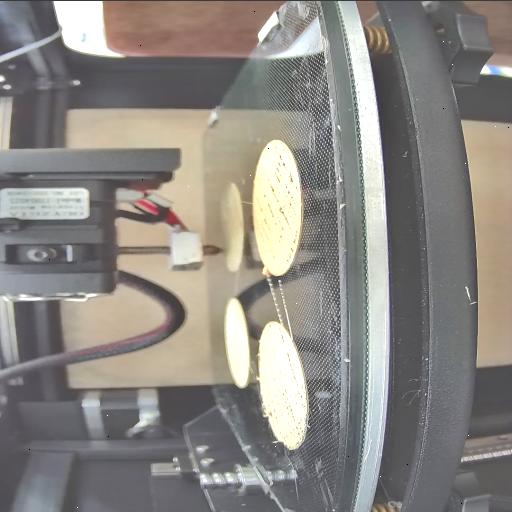under_extrusion: (262, 144, 300, 264), (265, 348, 306, 438), (274, 324, 288, 344)
